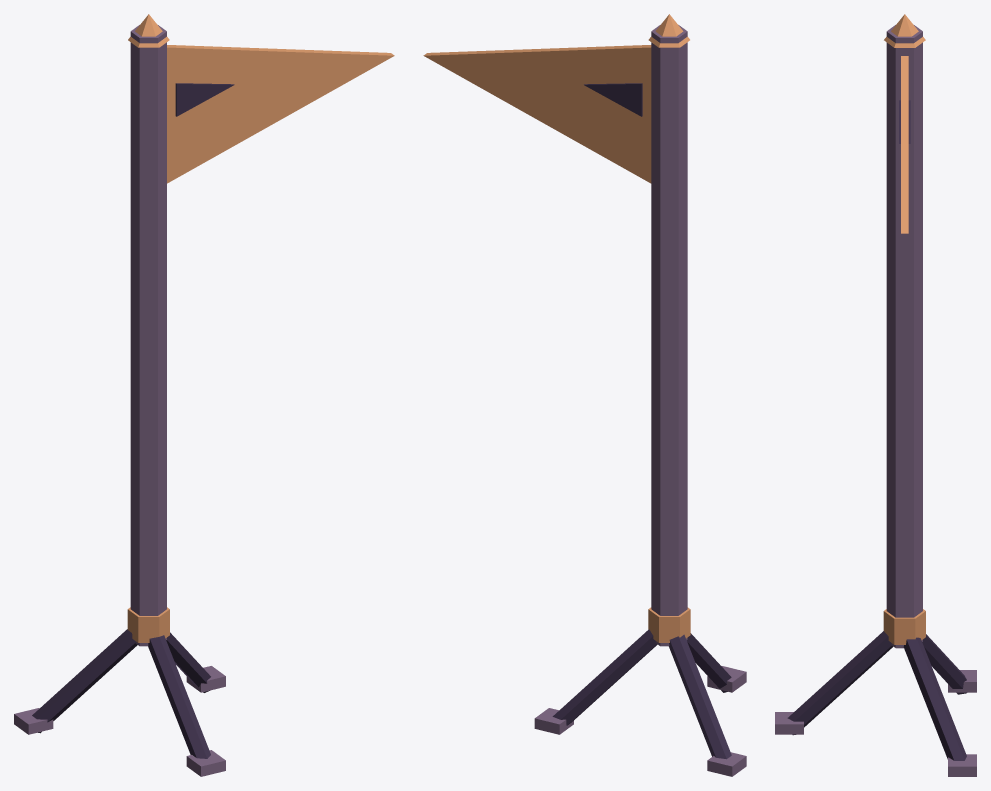
Rendered from survey_flag.obj.
The picture shows the model from 3 angles, left to right: view 1: azimuth 30°, elevation 25°; view 2: azimuth 150°, elevation 25°; view 3: azimuth 270°, elevation 25°; orthographic projection.
Parts seen in each view (by area): view 1: survey_flag_mauve, survey_flag_warm_orange, survey_flag_deep_purple; view 2: survey_flag_mauve, survey_flag_warm_orange, survey_flag_deep_purple; view 3: survey_flag_mauve, survey_flag_deep_purple, survey_flag_warm_orange.
Part boxes in pixels (x1=…): survey_flag_mauve: x1=14, y1=25, x2=225, y2=776; survey_flag_warm_orange: x1=127, y1=14, x2=394, y2=642; survey_flag_deep_purple: x1=32, y1=83, x2=234, y2=758; survey_flag_mauve: x1=534, y1=25, x2=746, y2=776; survey_flag_warm_orange: x1=423, y1=14, x2=690, y2=642; survey_flag_deep_purple: x1=552, y1=83, x2=731, y2=759; survey_flag_mauve: x1=775, y1=25, x2=976, y2=776; survey_flag_deep_purple: x1=787, y1=100, x2=966, y2=760; survey_flag_warm_orange: x1=883, y1=14, x2=925, y2=644.
Bounding box in the file's own units: 0.4129 × 0.8271 × 0.21.
